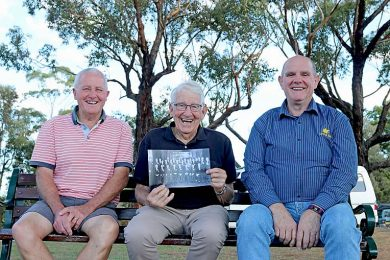Person: (227, 45, 376, 260), (12, 66, 134, 260), (121, 78, 238, 260)
